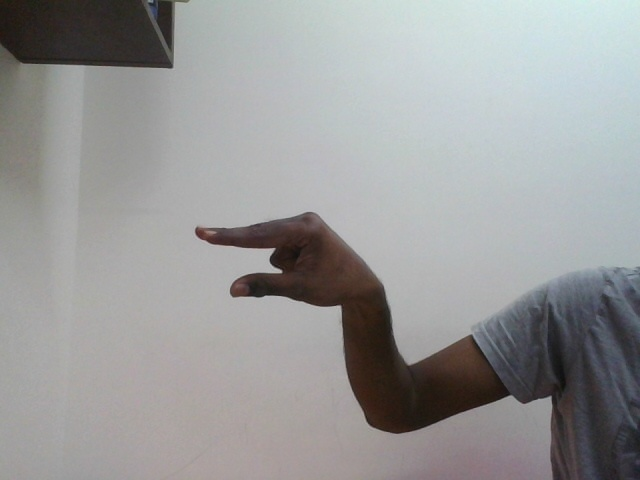No: (196, 211, 345, 307)
